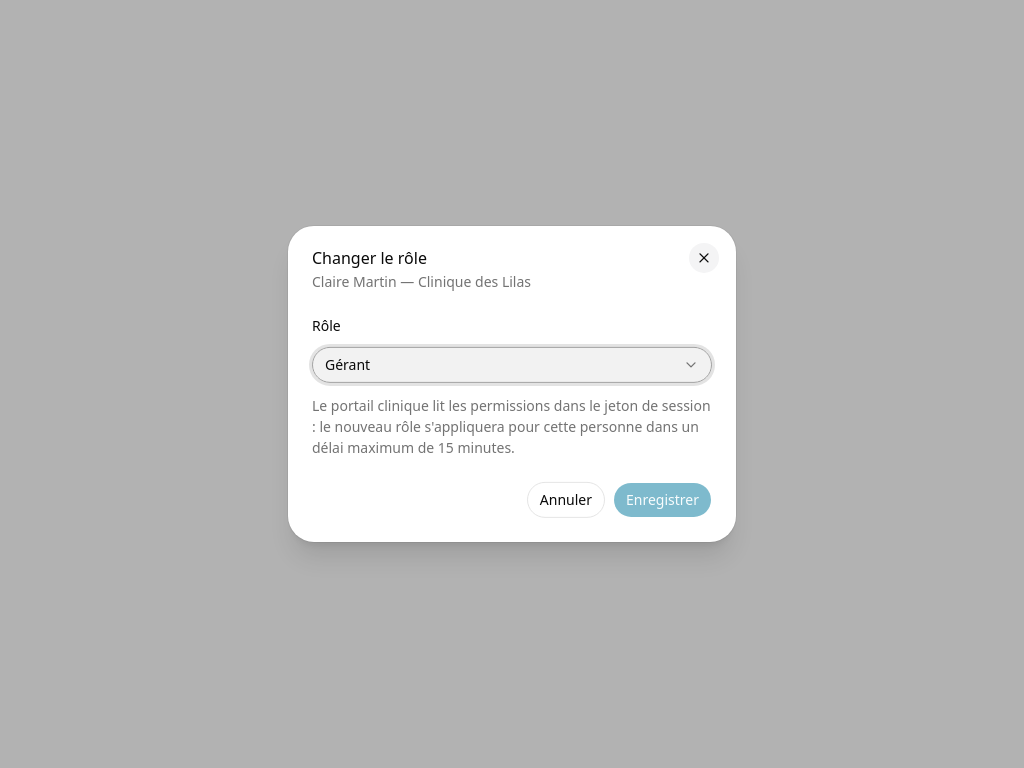
Test: StaffRoleDialog › affiche un refus du backend SANS fermer le dialogue
Click the dropdown.
click(348, 365)  # box x1=312 y1=347 x2=712 y2=383
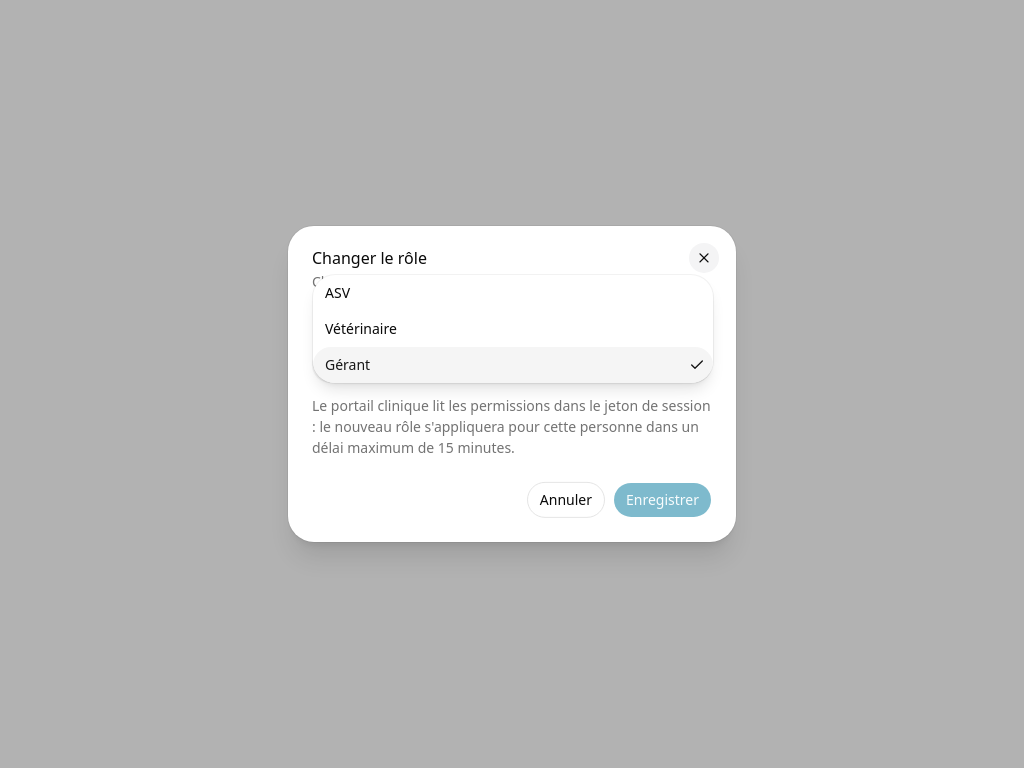
Click the option "ASV".
click(338, 293)  # box x1=325 y1=283 x2=350 y2=302
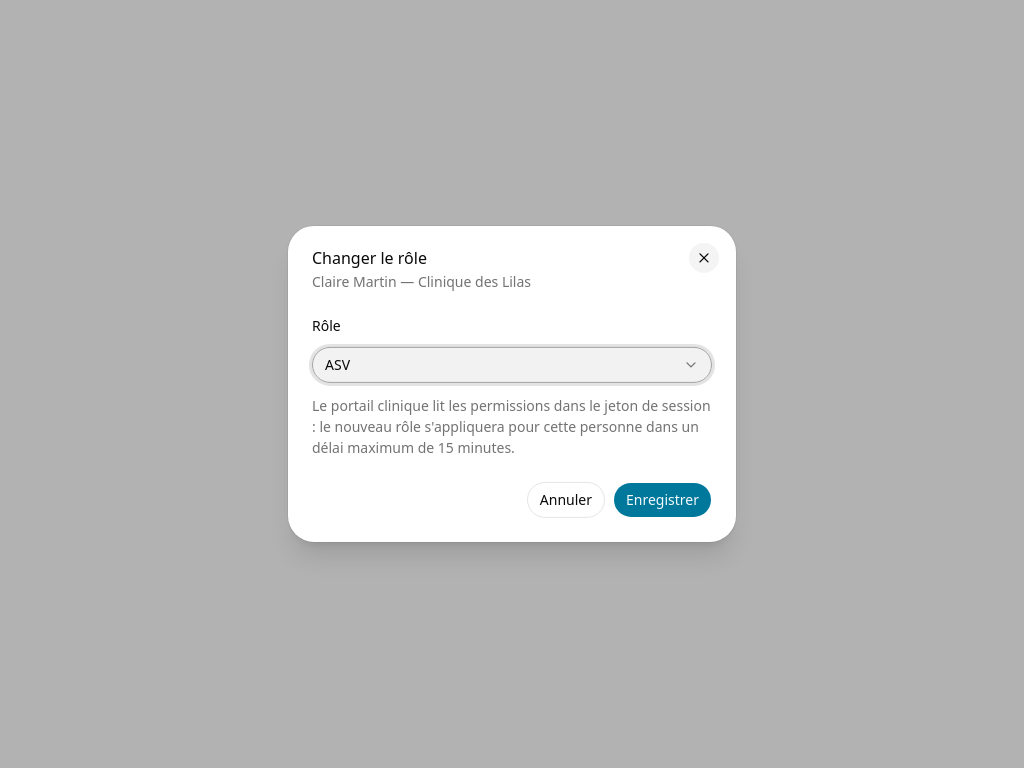
Click the button "Enregistrer".
click(662, 500)  # box x1=613 y1=482 x2=712 y2=518
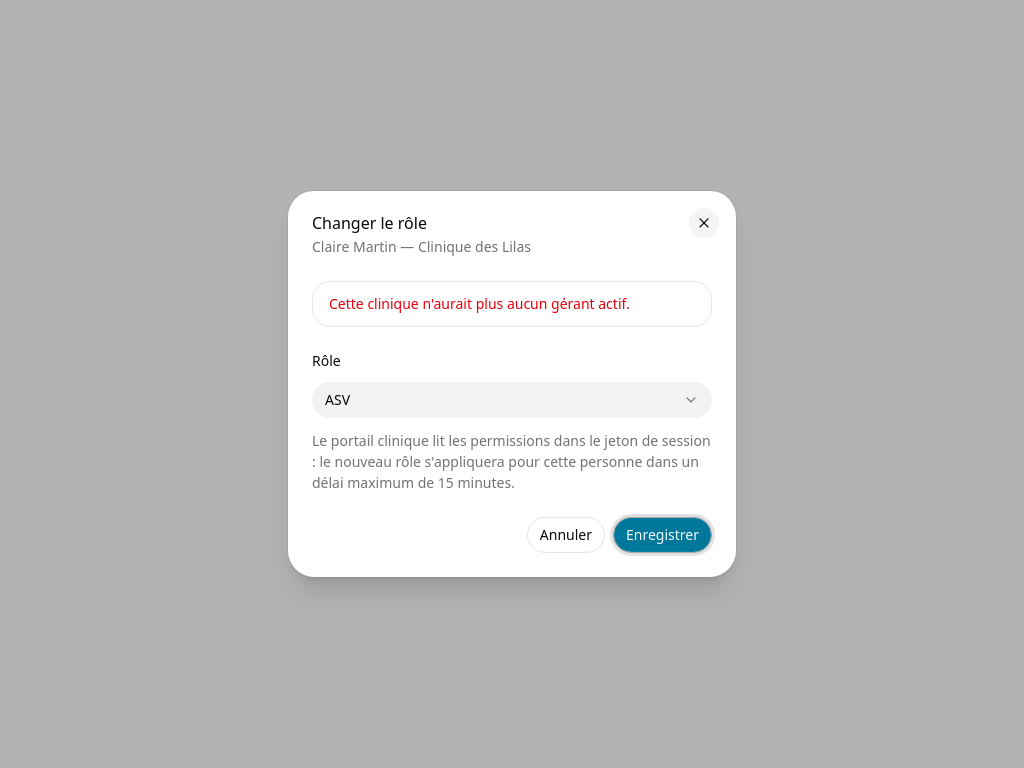
Now the text "Cette clinique n'aurait plus aucun gérant actif." is shown, box x1=329 y1=294 x2=630 y2=313
